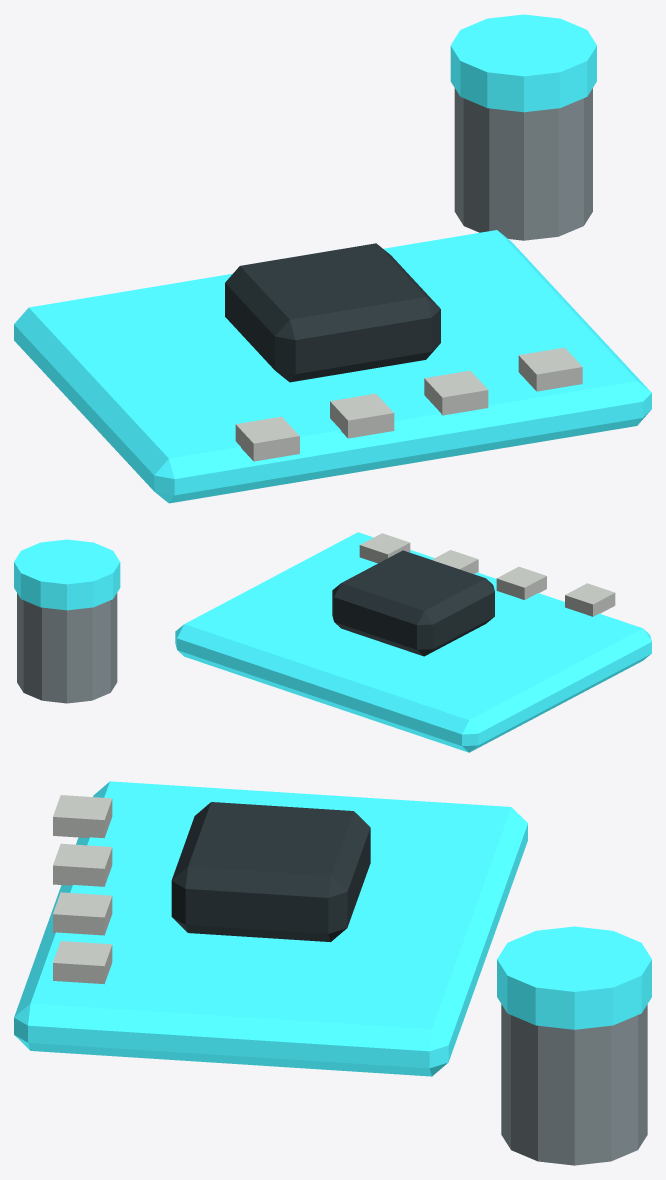
Rendered from electronics_depleted_0.glb.
The picture shows the model from 3 angles, top to bottom: view 1: azimuth 30°, elevation 25°; view 2: azimuth 150°, elevation 25°; view 3: azimuth 270°, elevation 25°; orthographic projection. The views are drawn at different scales.
Parts seen in each view (by area): view 1: electronics_depleted_0; view 2: electronics_depleted_0; view 3: electronics_depleted_0.
Boxes of the visible parts, left/top/right/bottom form: electronics_depleted_0: left=14, top=14, right=651, bottom=503; electronics_depleted_0: left=14, top=532, right=651, bottom=752; electronics_depleted_0: left=14, top=781, right=651, bottom=1165.
Bounding box in the file's own units: 0.38 × 0.0925 × 0.3048.
